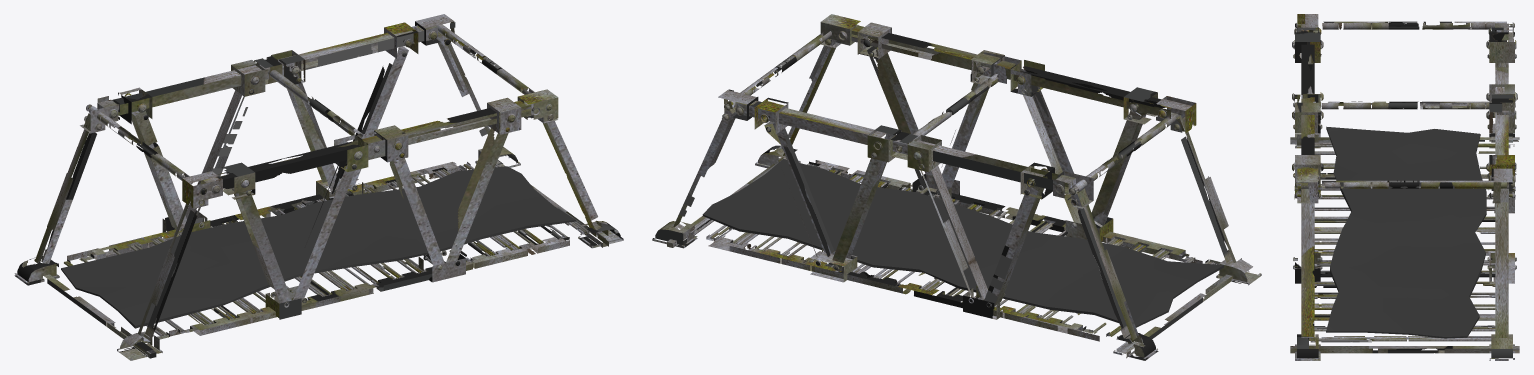
File: Bridge.FBX
3 renders of one model, left to right at view 1: azimuth 30°, elevation 25°; view 2: azimuth 150°, elevation 25°; view 3: azimuth 270°, elevation 25°, orthographic. The views are drawn at different scales.
Visible parts, largest first — view 1: lift_support_10, metal_sheet_bridge, lift_support_06, bridge_base_004, bottom_bridgem, top_C_00, bolt_69; view 2: metal_sheet_bridge, lift_support_10, lift_support_06, bridge_base_004, bottom_bridgem, top_C_00, bolt_69; view 3: metal_sheet_bridge, lift_support_06, lift_support_10, bottom_bridgem, top_C_00, bridge_base_004, bolt_69.
Boxes of the visible parts, box(x1,y1,x2,y2) form: lift_support_10: box(34, 25, 597, 341); metal_sheet_bridge: box(61, 166, 576, 328); lift_support_06: box(14, 14, 623, 360); bridge_base_004: box(31, 160, 608, 358); bottom_bridgem: box(57, 163, 590, 337); top_C_00: box(89, 24, 534, 184); bolt_69: box(15, 31, 622, 358); metal_sheet_bridge: box(702, 159, 1223, 327); lift_support_10: box(673, 25, 1236, 340); lift_support_06: box(652, 14, 1261, 360); bridge_base_004: box(667, 155, 1232, 358); bottom_bridgem: box(690, 157, 1218, 337); top_C_00: box(727, 31, 1175, 191); bolt_69: box(653, 31, 1260, 358); metal_sheet_bridge: box(1326, 126, 1486, 338); lift_support_06: box(1295, 14, 1514, 360); lift_support_10: box(1301, 24, 1508, 337); bottom_bridgem: box(1310, 142, 1495, 342); top_C_00: box(1321, 21, 1506, 188); bridge_base_004: box(1290, 137, 1519, 353); bolt_69: box(1292, 22, 1517, 359).
Bounding box in the file's own units: 112 × 34.3 × 47.7.
Materials: 2 (1 with a texture image).
